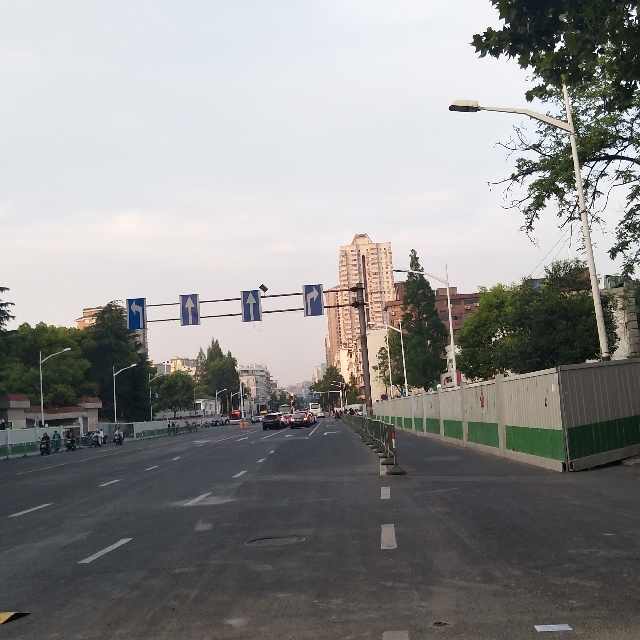left: (125, 300, 147, 329)
right: (305, 284, 321, 316)
straight: (179, 295, 199, 327), (245, 288, 260, 322)
